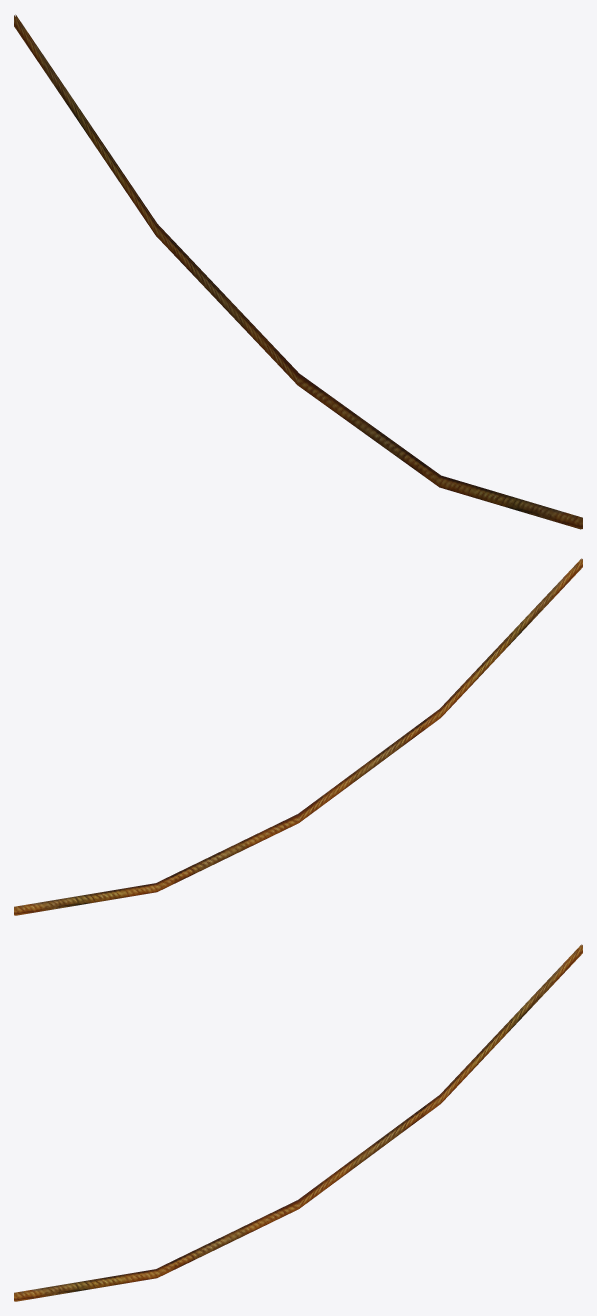
Rendered from DN_mclight02.FBX.
3 views of the same model, one above another, from view 1: azimuth 30°, elevation 25°; view 2: azimuth 150°, elevation 25°; view 3: azimuth 330°, elevation 25° (orthographic). The views are drawn at different scales.
Visible parts, largest first — view 1: DN_mclight02; view 2: DN_mclight02; view 3: DN_mclight02.
Boxes of the visible parts, box(x1,y1,x2,y2) form: DN_mclight02: box(14, 14, 582, 529); DN_mclight02: box(14, 558, 582, 915); DN_mclight02: box(14, 944, 582, 1301).
Size of the model in its own units: 51.57 by 63.76 by 639.
